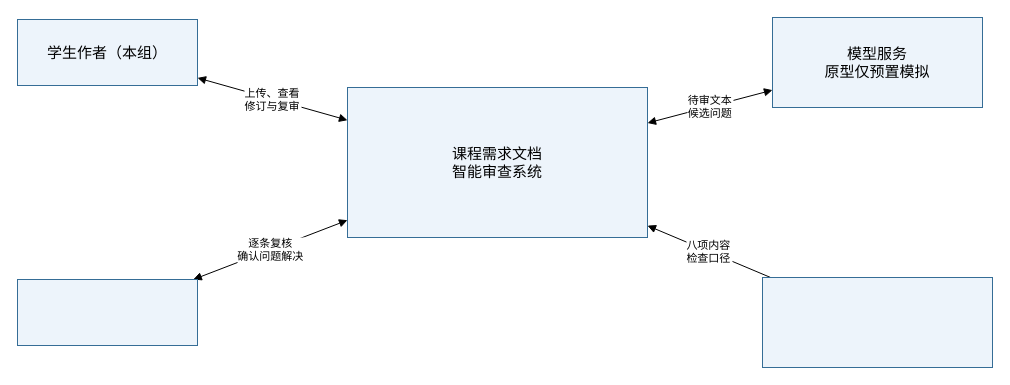
This 1010x385 diagram has some shape labels left out. The shapes that lost their labels are listed below. From the top down, each one's centre as x and y in pixels, then its label:
At [107,312]: "教师（获授权组）".
At [877,322]: "本组模板 TPL-COURSE-01 v0.1".
